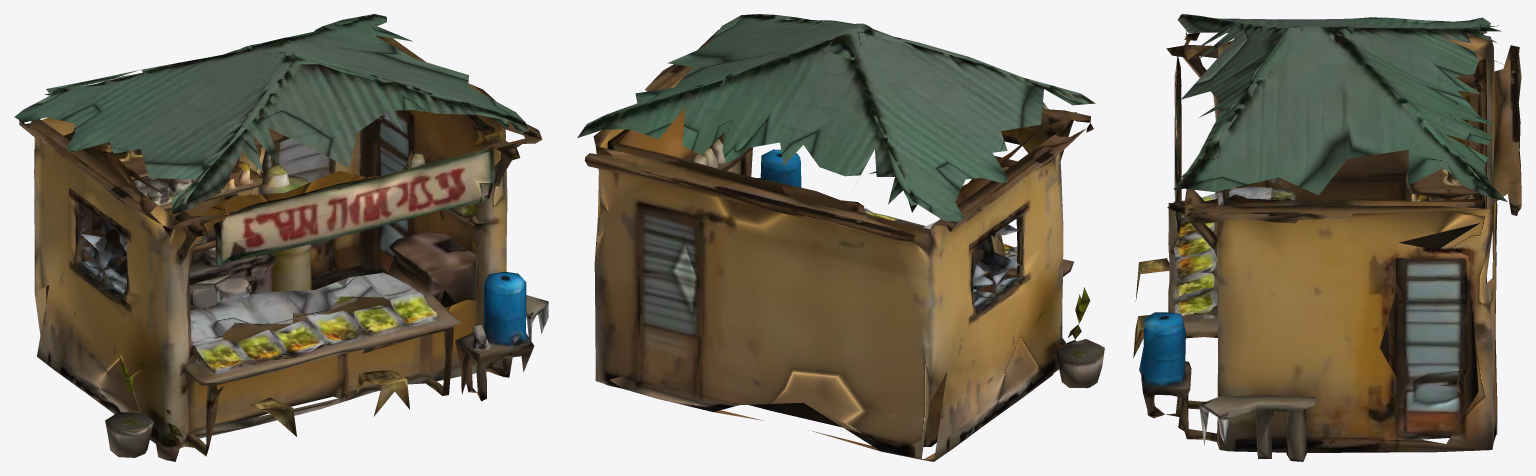
File: karinderya.glb
The picture shows the model from 3 angles, left to right: view 1: azimuth 30°, elevation 25°; view 2: azimuth 150°, elevation 25°; view 3: azimuth 270°, elevation 25°; orthographic projection. The views are drawn at different scales.
Visible parts, largest first — view 1: geometry_0; view 2: geometry_0; view 3: geometry_0.
Part boxes in pixels (box(x1,y1,x2,y2)): geometry_0: box(14, 14, 548, 461); geometry_0: box(577, 14, 1104, 461); geometry_0: box(1133, 14, 1521, 461).
Bounding box in the file's own units: 1.35 × 1 × 1.03.
Materials: 1 (1 with a texture image).
